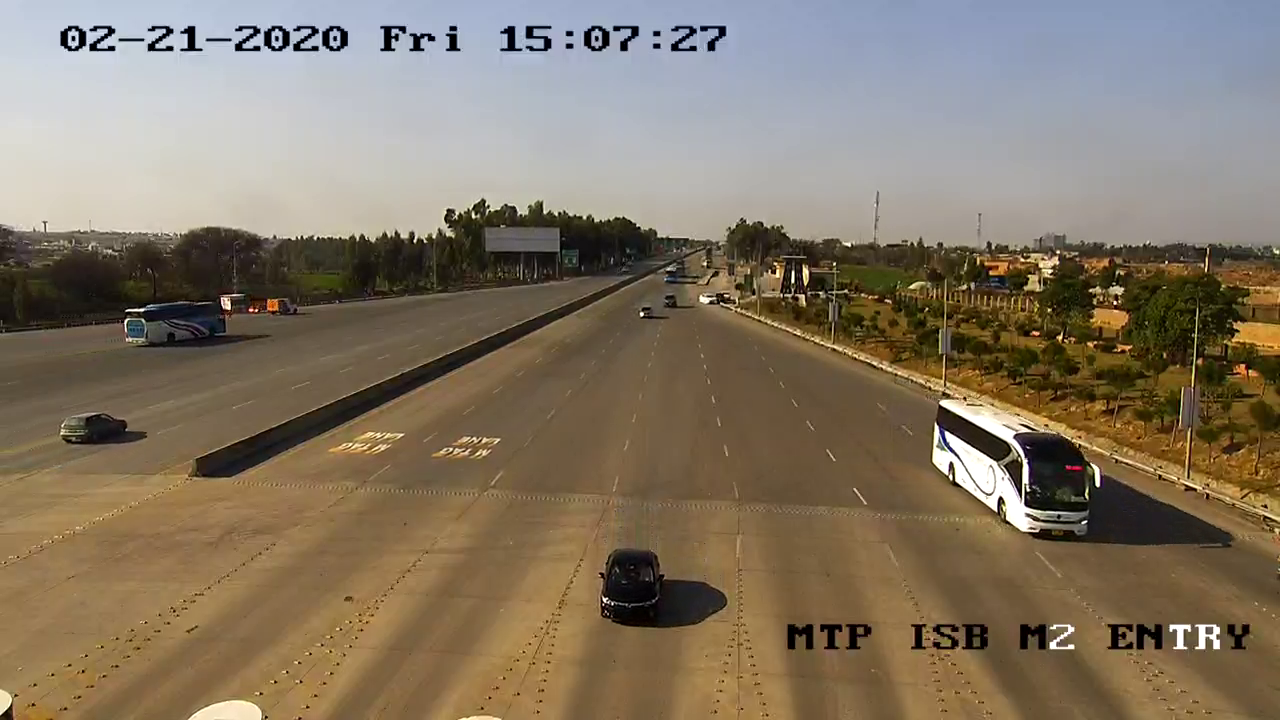f1: (585, 540, 677, 631)
f4: (917, 386, 1112, 552)
